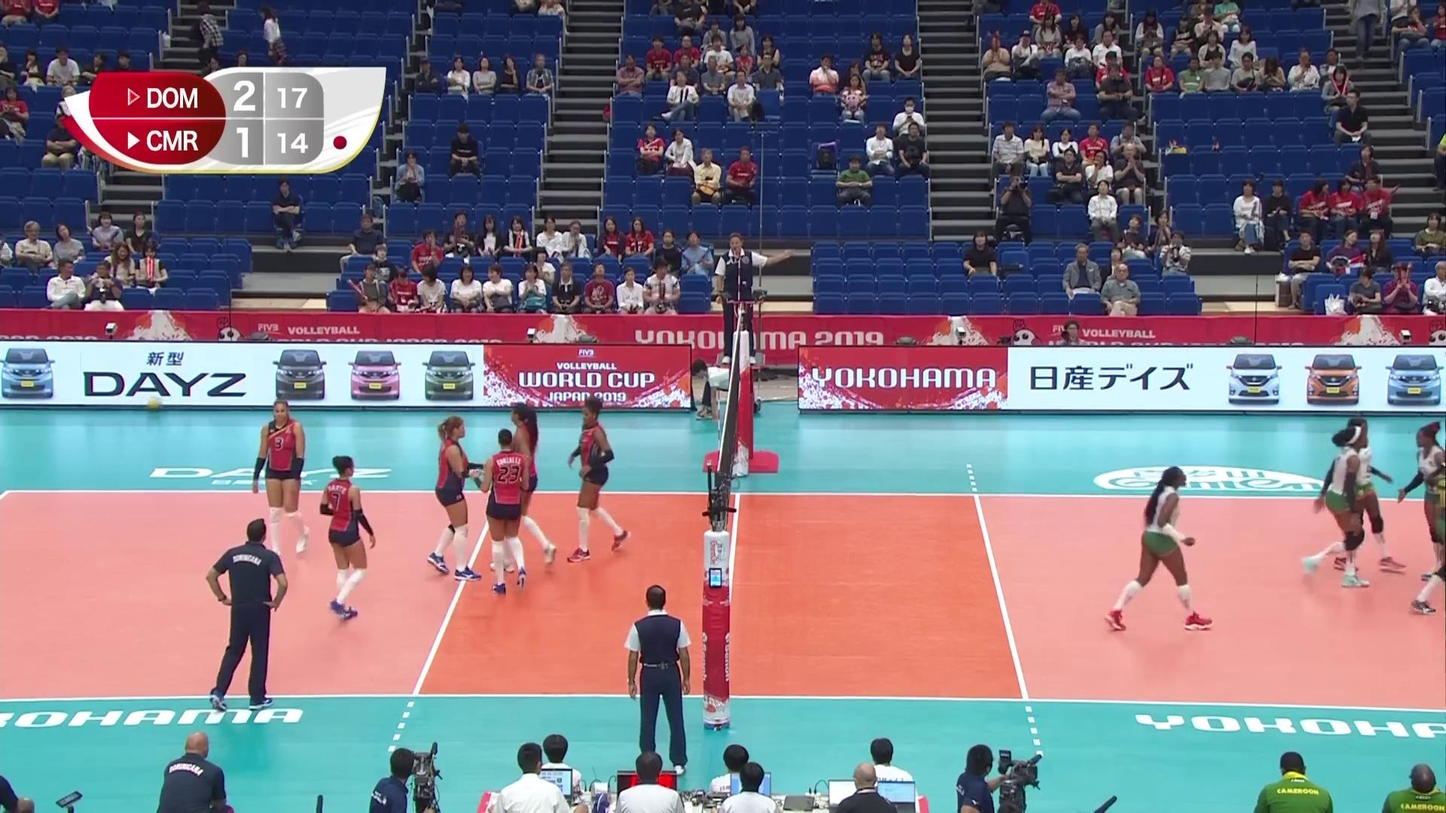player: (1102, 467, 1213, 635), (1330, 416, 1407, 574), (566, 397, 635, 564), (1301, 425, 1370, 589), (496, 400, 557, 576), (319, 454, 382, 620), (251, 399, 312, 563), (479, 428, 532, 598), (431, 418, 485, 582), (1399, 420, 1446, 581), (1408, 455, 1446, 619)
refree: (625, 587, 696, 768), (715, 235, 763, 363)
